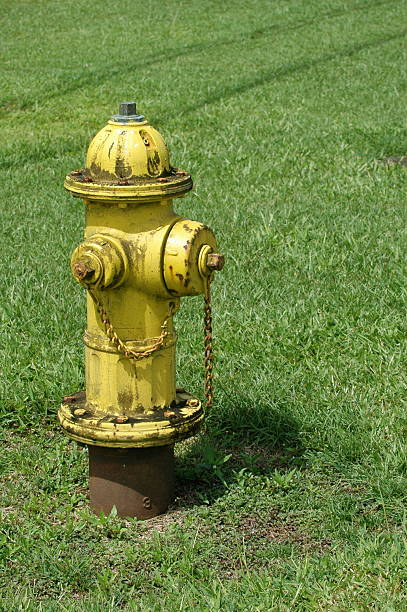firehdyrant: (54, 95, 232, 518)
